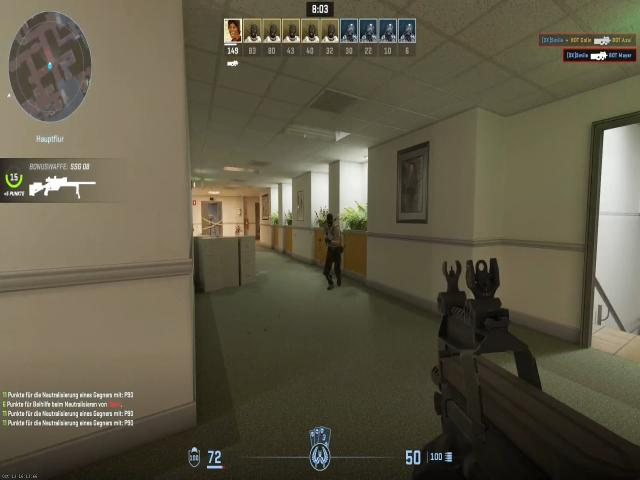T: (323, 213, 341, 262)
T-Head: (323, 212, 338, 231)
